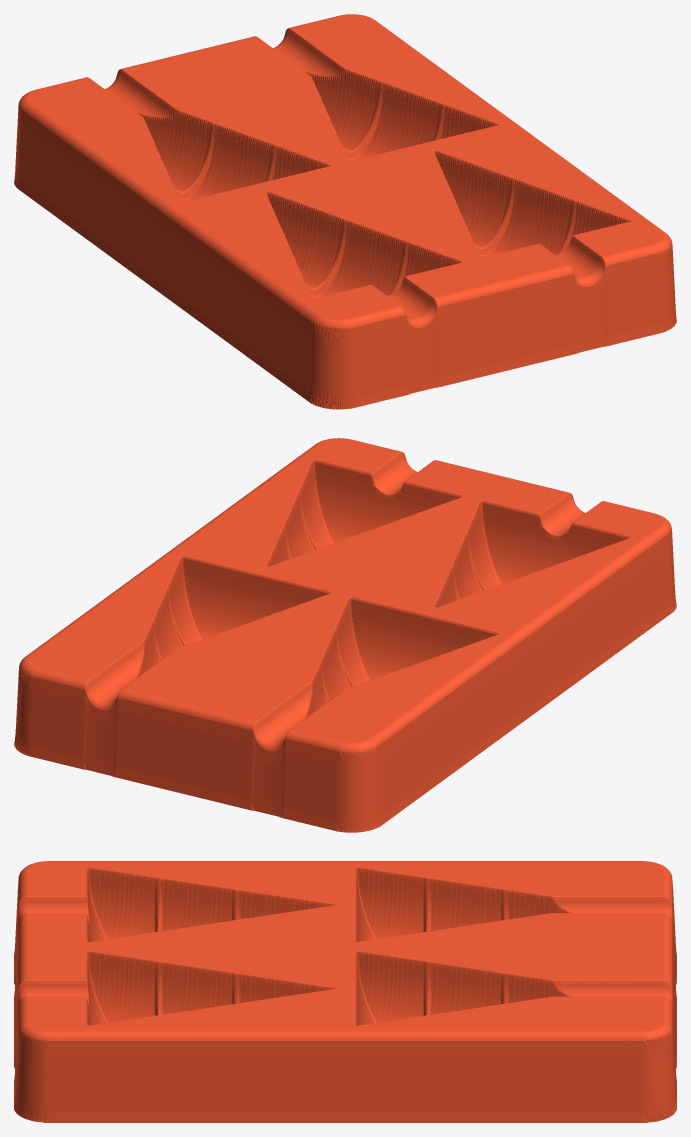
File: mold.glb
3 renders of one model, top to bottom at view 1: azimuth 30°, elevation 25°; view 2: azimuth 150°, elevation 25°; view 3: azimuth 270°, elevation 25°, orthographic. The views are drawn at different scales.
Parts seen in each view (by area): view 1: geometry_0; view 2: geometry_0; view 3: geometry_0.
Part boxes in pixels (x1,y1,x2,y2): geometry_0: (14,14,676,409); geometry_0: (14,438,676,832); geometry_0: (14,861,676,1122).
Size of the model in its own units: 0.1103 by 0.0245 by 0.171.
